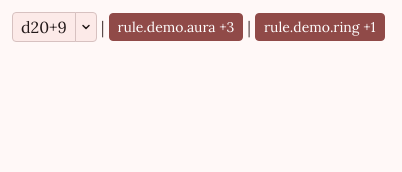
Test: PanelDiceLine › folds active modifiers into the displayed bonus so the chip shows the real roll
Expected: the button "d20+9" is shown, top-left (12, 12), bottom-right (76, 42)
Click the button "rule.demo.aura +3" at (176, 27), box top-left (108, 13), bottom-right (243, 41)
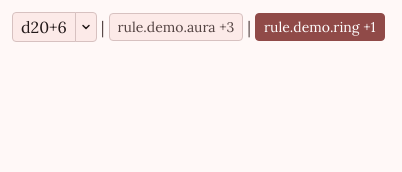
Now the button "d20+6" is shown, box top-left (12, 12), bottom-right (76, 42)
